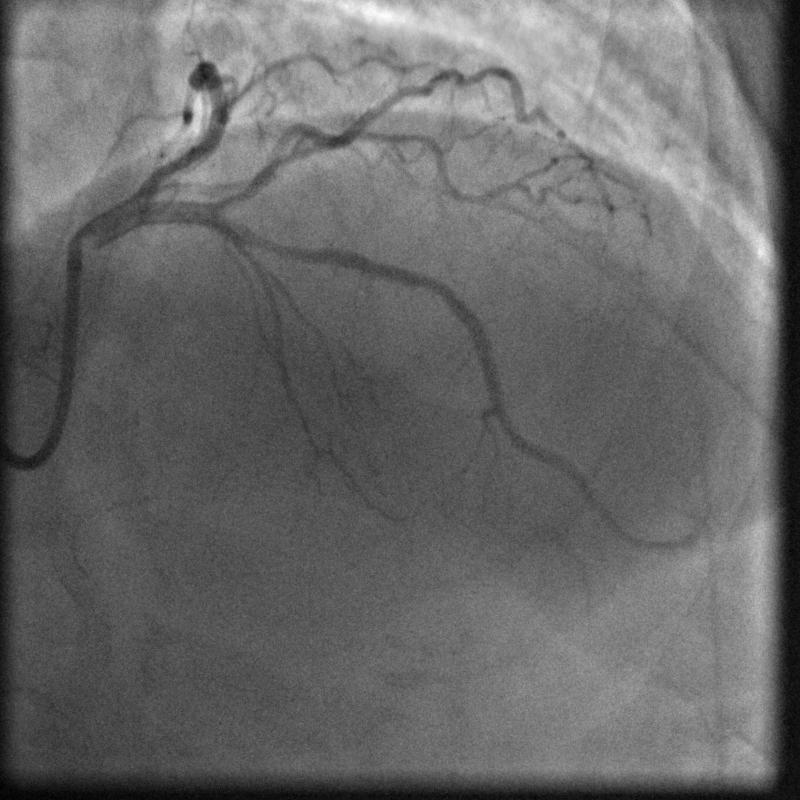Stenosis: (251, 225, 311, 268)
